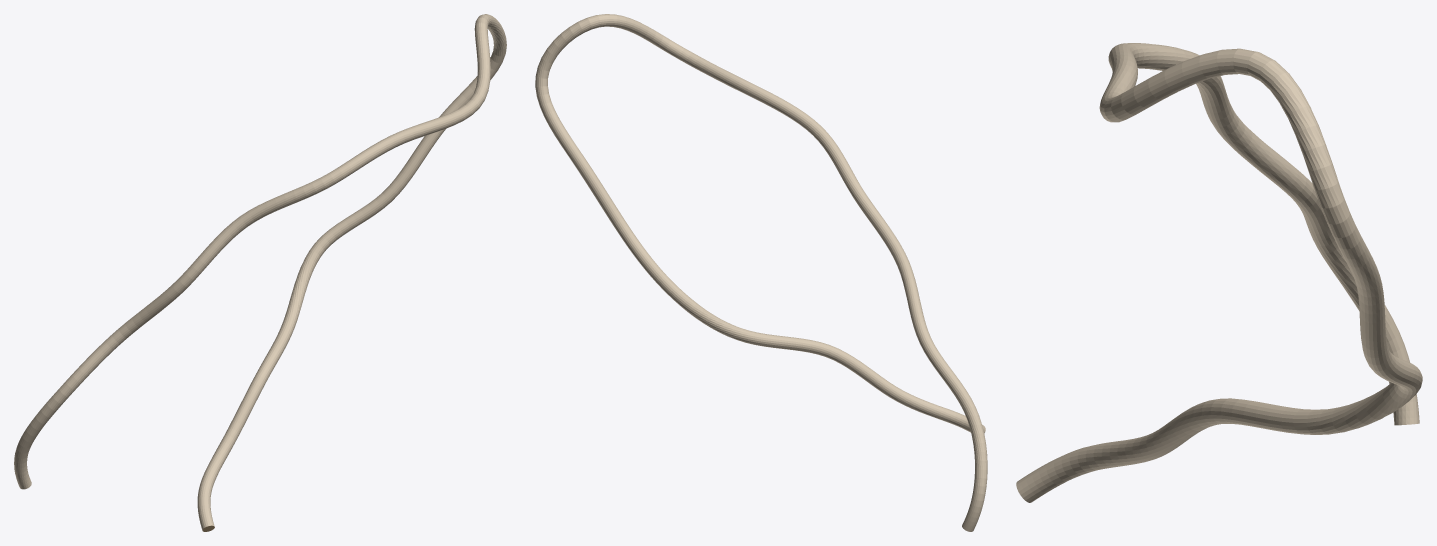
Rendered from SheetSheet.dae.
The picture shows the model from 3 angles, left to right: view 1: azimuth 30°, elevation 25°; view 2: azimuth 150°, elevation 25°; view 3: azimuth 270°, elevation 25°; orthographic projection. The views are drawn at different scales.
Parts seen in each view (by area): view 1: Shape_IndexedTriangleStripSet_013; view 2: Shape_IndexedTriangleStripSet_013; view 3: Shape_IndexedTriangleStripSet_013.
Part boxes in pixels (x1,y1,x2,y2): Shape_IndexedTriangleStripSet_013: (14,14,506,531); Shape_IndexedTriangleStripSet_013: (535,14,987,531); Shape_IndexedTriangleStripSet_013: (1016,43,1422,502).
Size of the model in its own units: 21.03 by 7.99 by 16.79.
